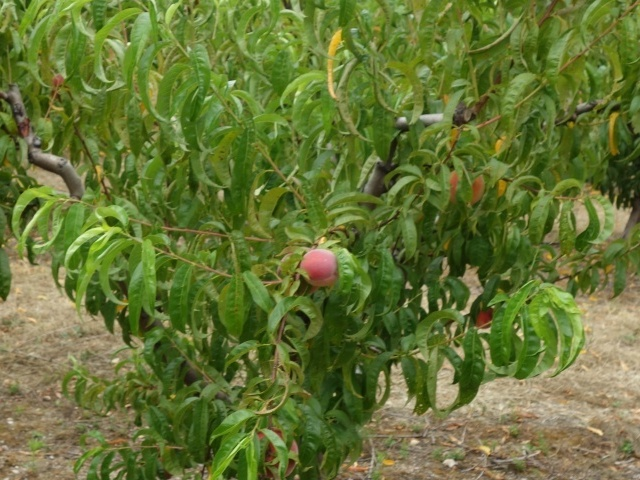peach: (254, 425, 305, 479), (296, 246, 343, 289), (446, 166, 488, 209), (470, 302, 497, 334)
